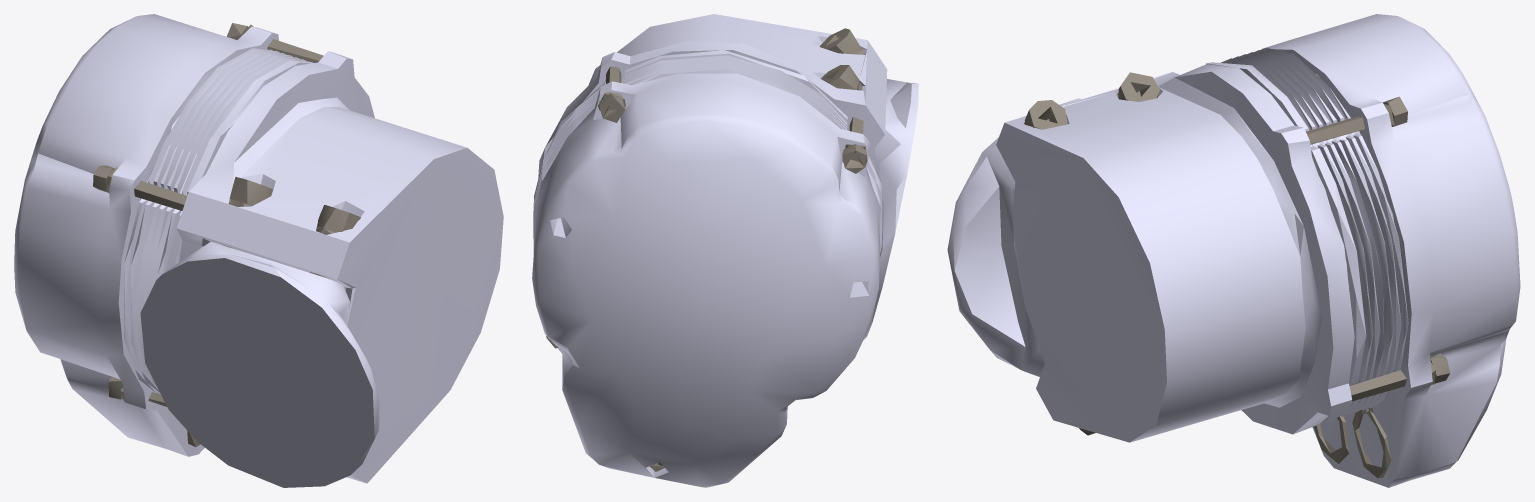
The model's file is right-hip-roll.obj.
3 renders of one model, left to right at view 1: azimuth 30°, elevation 25°; view 2: azimuth 150°, elevation 25°; view 3: azimuth 270°, elevation 25°, orthographic. The views are drawn at different scales.
Visible parts, largest first — view 1: right_hip_roll; view 2: right_hip_roll; view 3: right_hip_roll.
Part boxes in pixels (box(x1,y1,x2,y2)): right_hip_roll: box(14, 14, 503, 487); right_hip_roll: box(532, 14, 918, 487); right_hip_roll: box(947, 14, 1520, 487).
Size of the model in its own units: 0.1189 by 0.1148 by 0.1417.
1 material, 1 textured.
